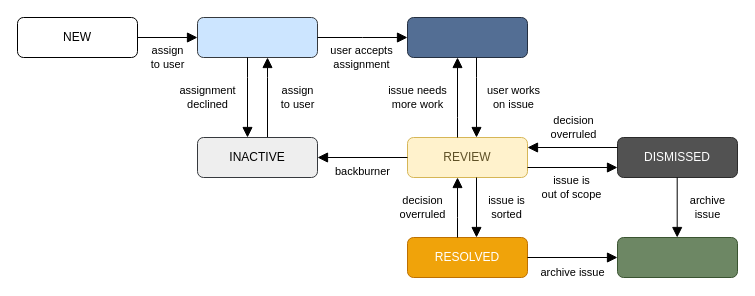
Image size: 755x296. Some labels were removed from this diagram. The centre of each missing label's shape, as x and y in pixels:
"ACCEPTED" belongs at pixel 467 37.
"ARCHIVED" belongs at pixel 677 257.
"ASSIGNED" belongs at pixel 257 37.
